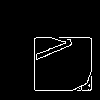V: (25, 25, 72, 61)
